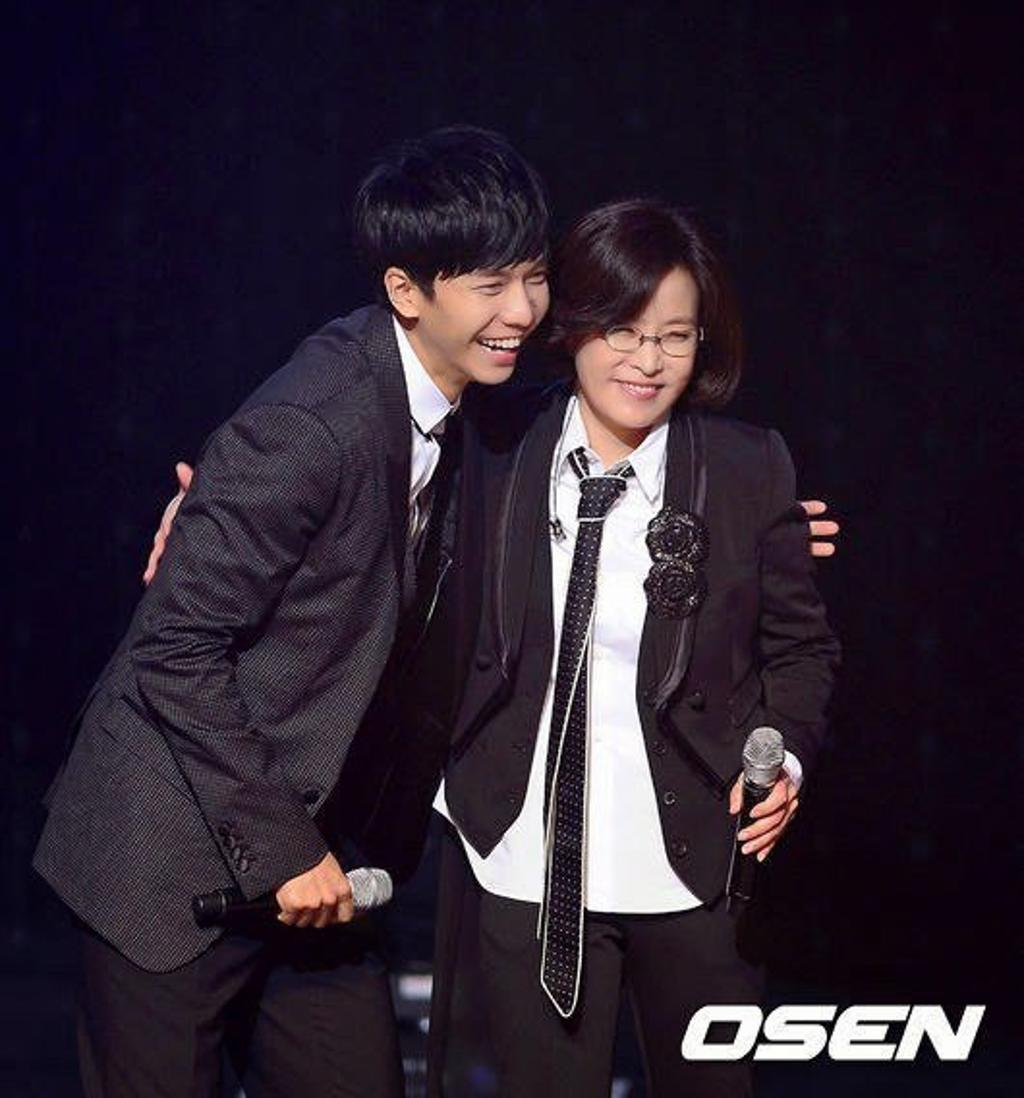face: (576, 257, 700, 431), (428, 212, 550, 381)
